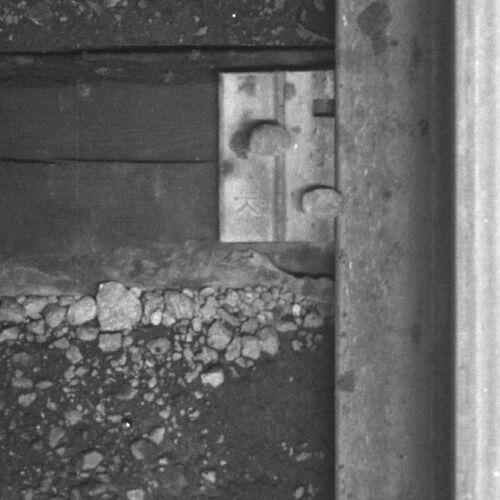do: (217, 69, 348, 241)
hole_do: (305, 89, 346, 128)
rail: (455, 1, 500, 500)
tie_wood: (1, 47, 337, 287)
wood_crack: (1, 150, 218, 172)
